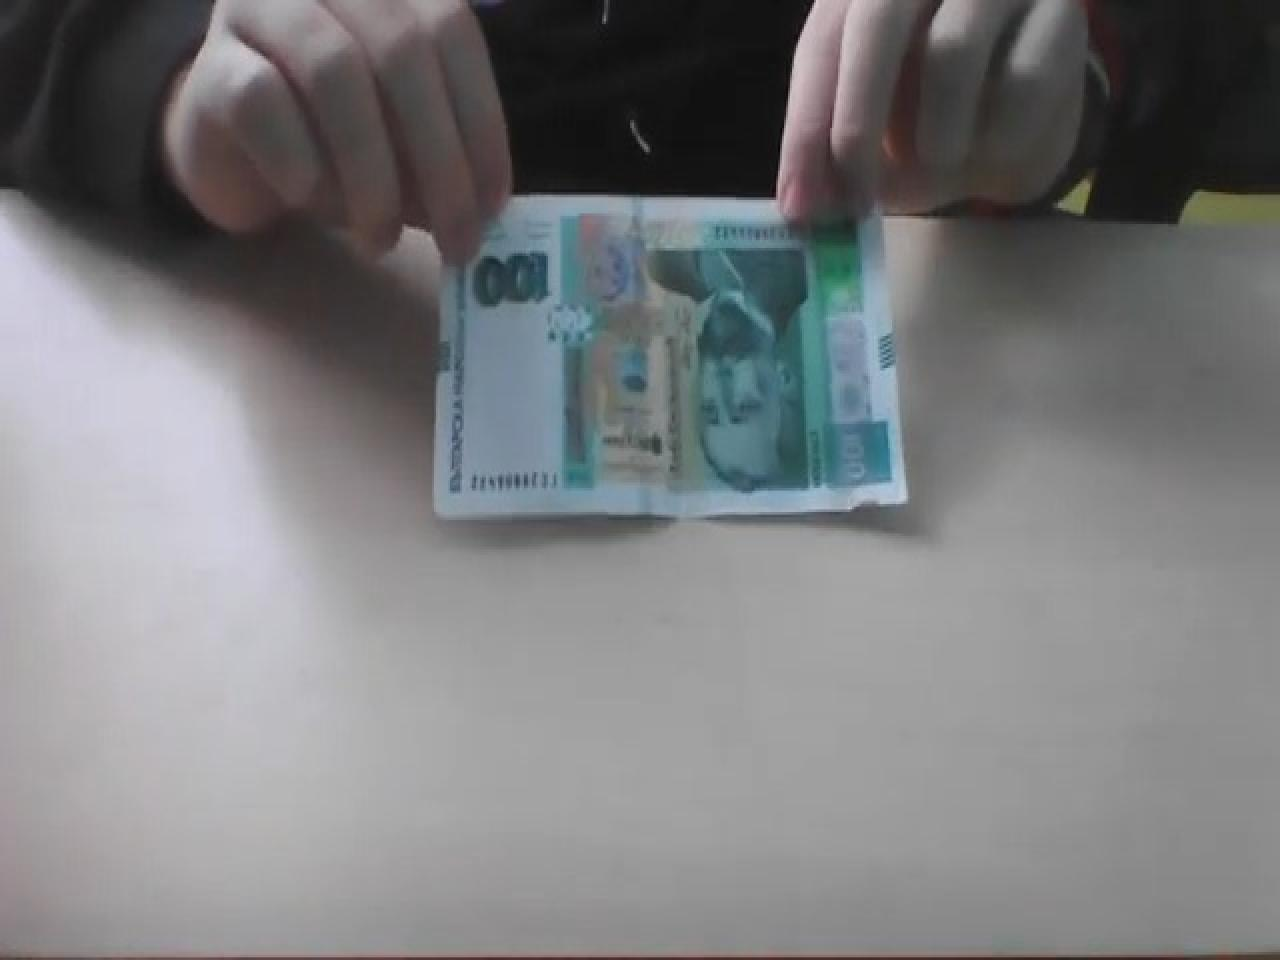100leva: (430, 192, 912, 525)
